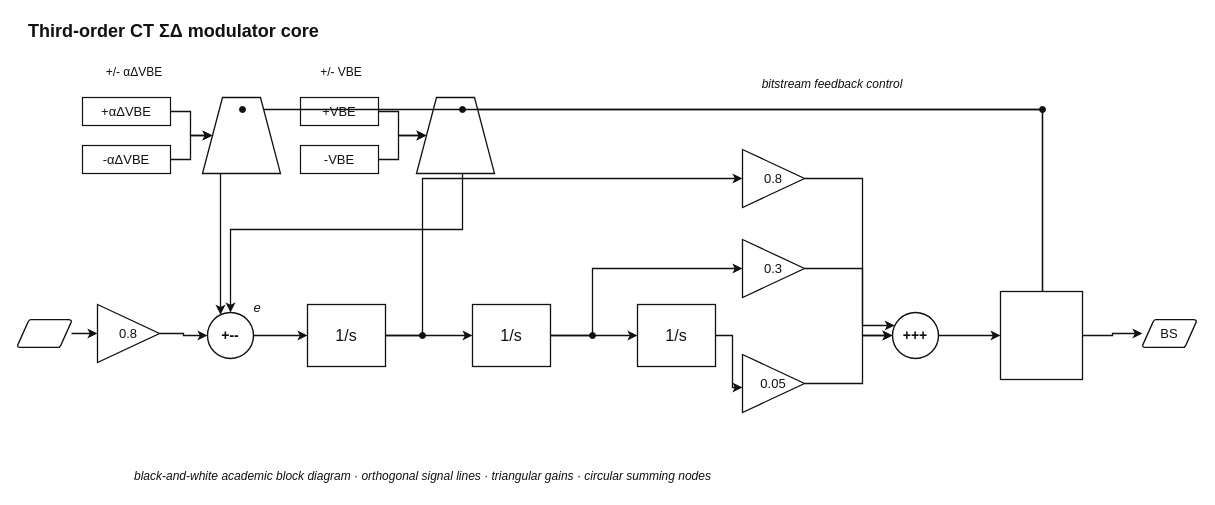
This 1215x505 diagram has some shape labels left out. Each missing label, with the centre of its shape:
"1-bit quantizer" goes at [1041,335].
"VBE switch" goes at [455,135].
"Vin" goes at [44,333].
"αΔVBE switch" goes at [241,135].
